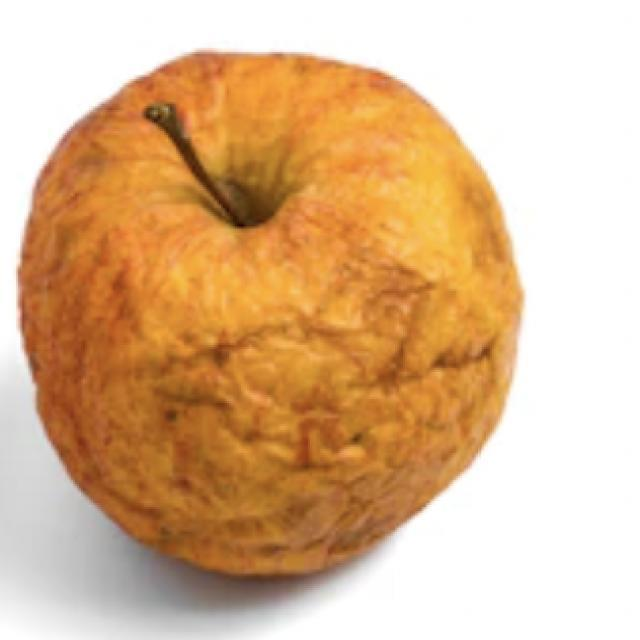Rotten: (46, 61, 532, 582)
